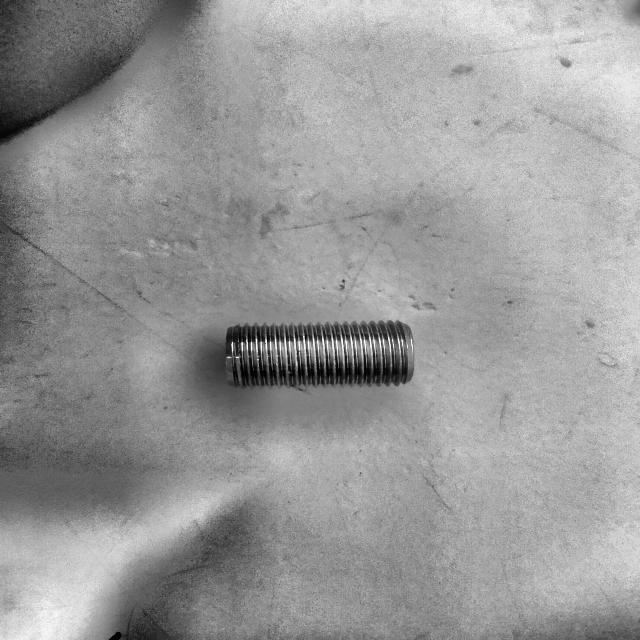Normal: (225, 320, 414, 391)
